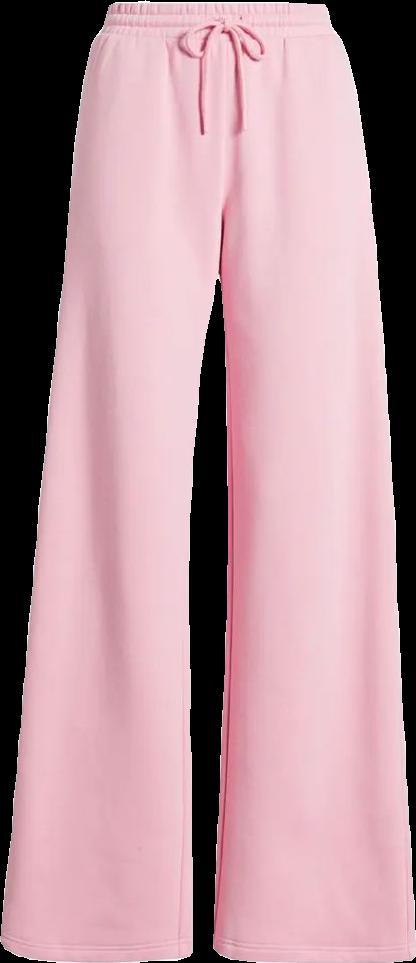Hemline: (0, 935, 195, 962), (210, 942, 415, 962)
Pantleg: (1, 2, 221, 962), (213, 2, 415, 962)
Waistline: (96, 23, 333, 43), (107, 0, 327, 15)
